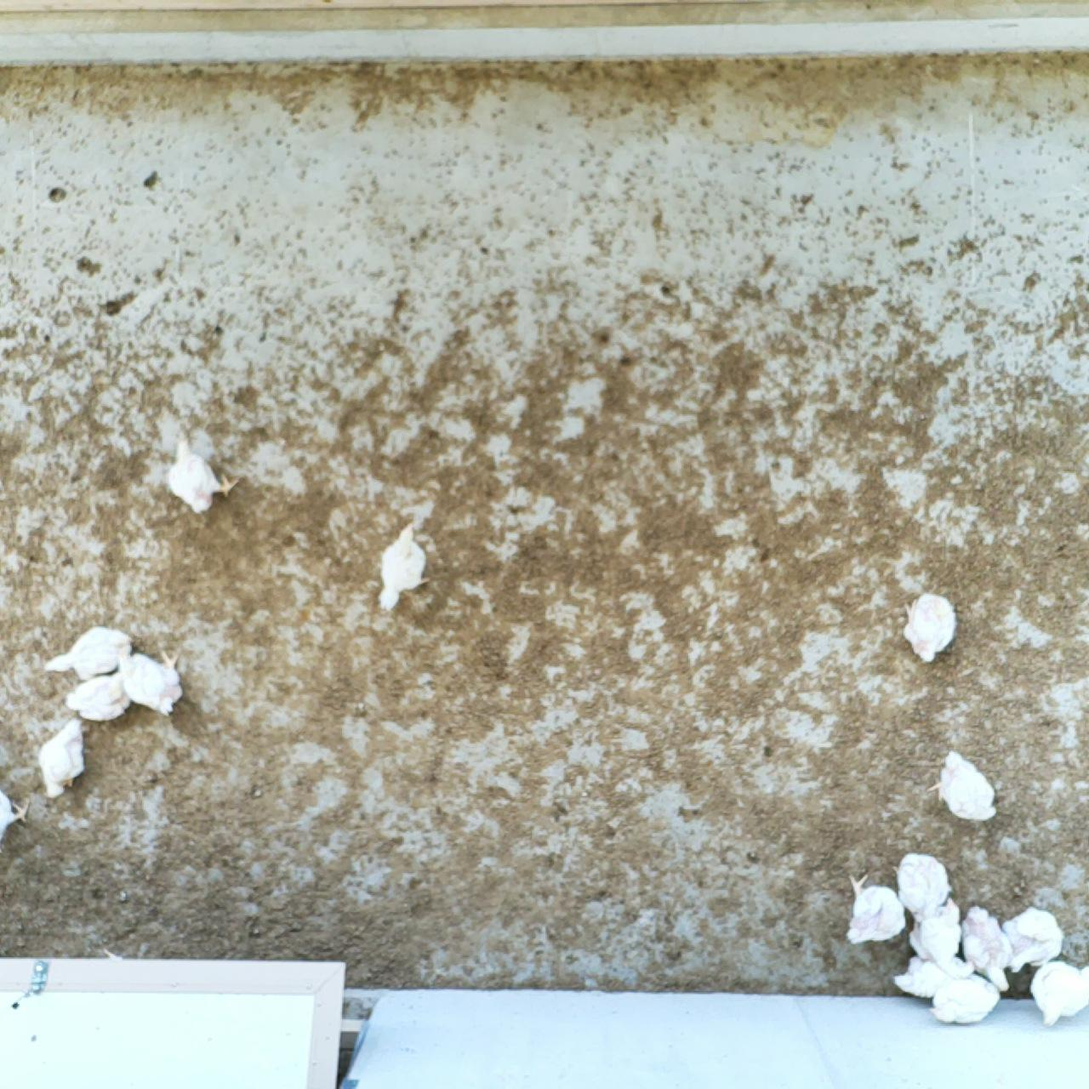chicken: (160, 432, 242, 516), (906, 896, 979, 981), (41, 621, 139, 684), (925, 747, 1001, 826), (375, 517, 436, 614), (31, 712, 94, 802), (843, 869, 909, 947), (118, 646, 186, 720), (999, 901, 1069, 972), (925, 966, 1005, 1028), (899, 590, 961, 665), (893, 850, 954, 924), (1027, 958, 1089, 1029), (889, 952, 977, 1000), (63, 669, 134, 724), (0, 787, 32, 848)
